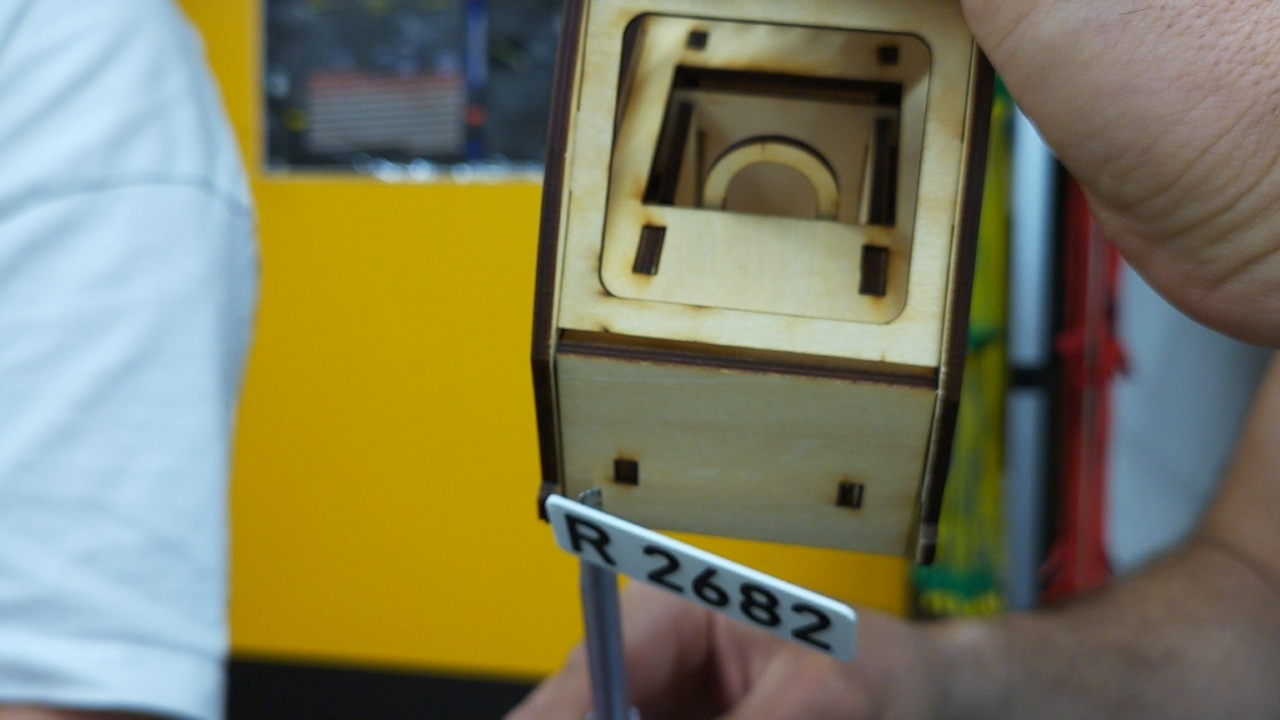license_plate: (544, 492, 862, 666)
